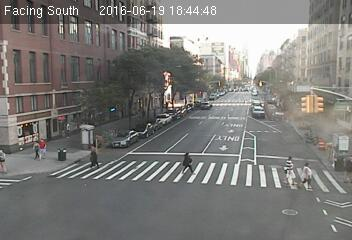neg: (108, 131, 131, 161), (81, 77, 101, 105), (224, 165, 242, 190), (85, 19, 103, 43), (121, 198, 139, 222), (117, 55, 132, 76), (205, 18, 219, 36), (279, 73, 292, 89), (237, 84, 249, 101), (308, 12, 320, 29), (254, 14, 265, 29), (199, 210, 210, 225), (165, 108, 175, 122), (150, 17, 158, 28), (44, 45, 51, 55), (150, 75, 157, 84)
pos: (275, 152, 300, 186), (174, 145, 197, 176), (294, 159, 317, 189), (83, 143, 104, 171), (33, 135, 51, 160), (58, 117, 74, 137), (28, 140, 43, 161)
